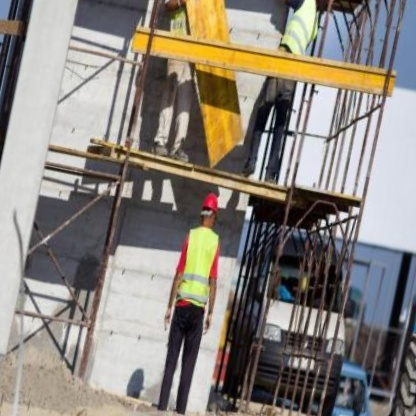red: (196, 188, 225, 221), (302, 0, 332, 6)
vest: (166, 218, 225, 313), (272, 0, 326, 56)
